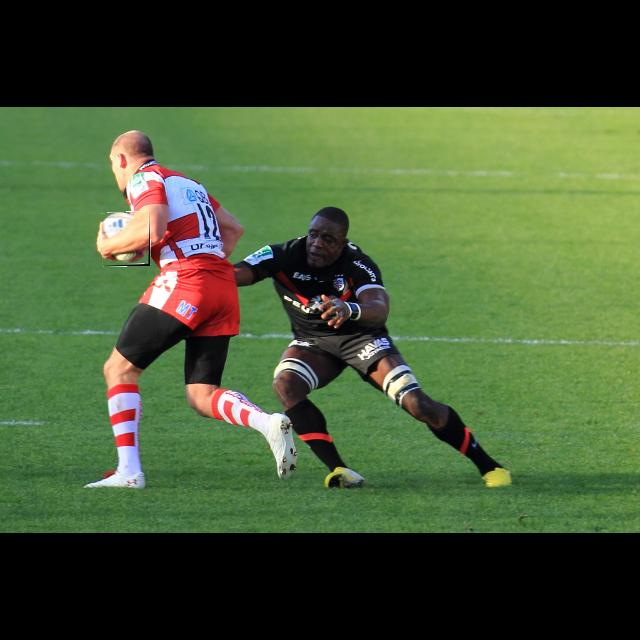Football: (102, 212, 150, 266)
